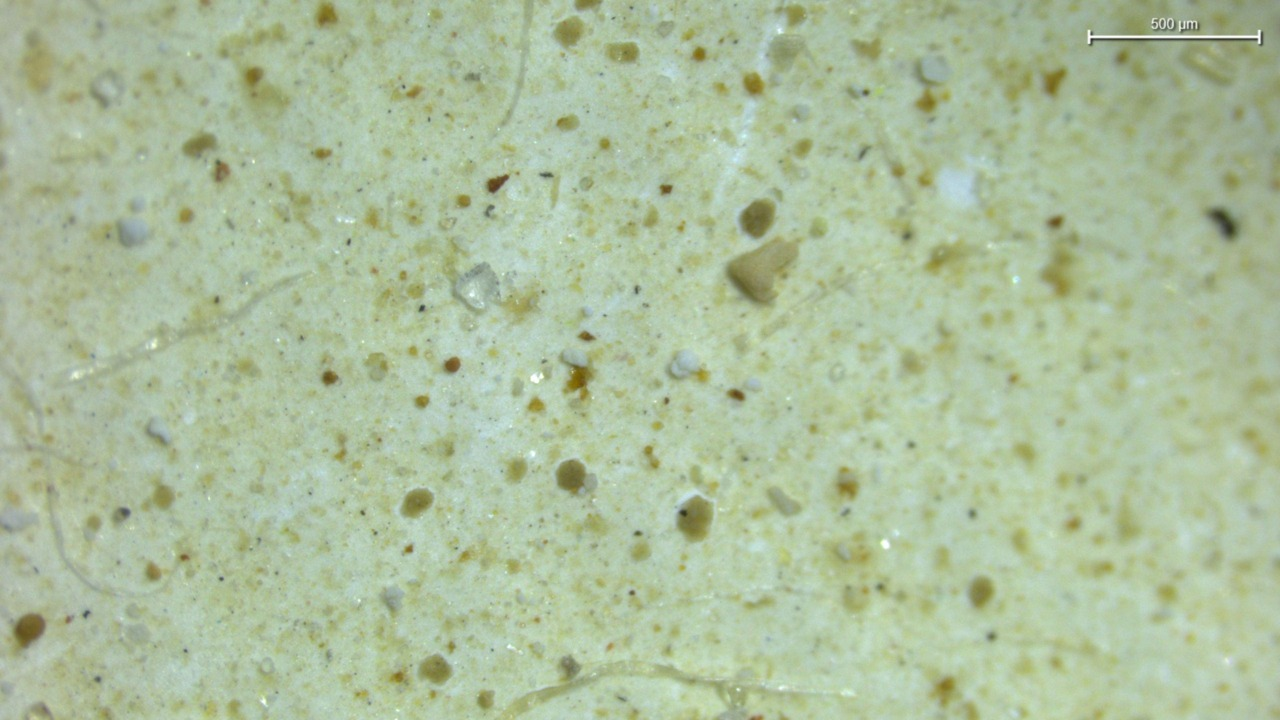microplastic_fragment: (727, 241, 799, 302), (452, 263, 501, 312), (669, 350, 700, 379), (118, 218, 149, 247), (563, 348, 588, 367)
